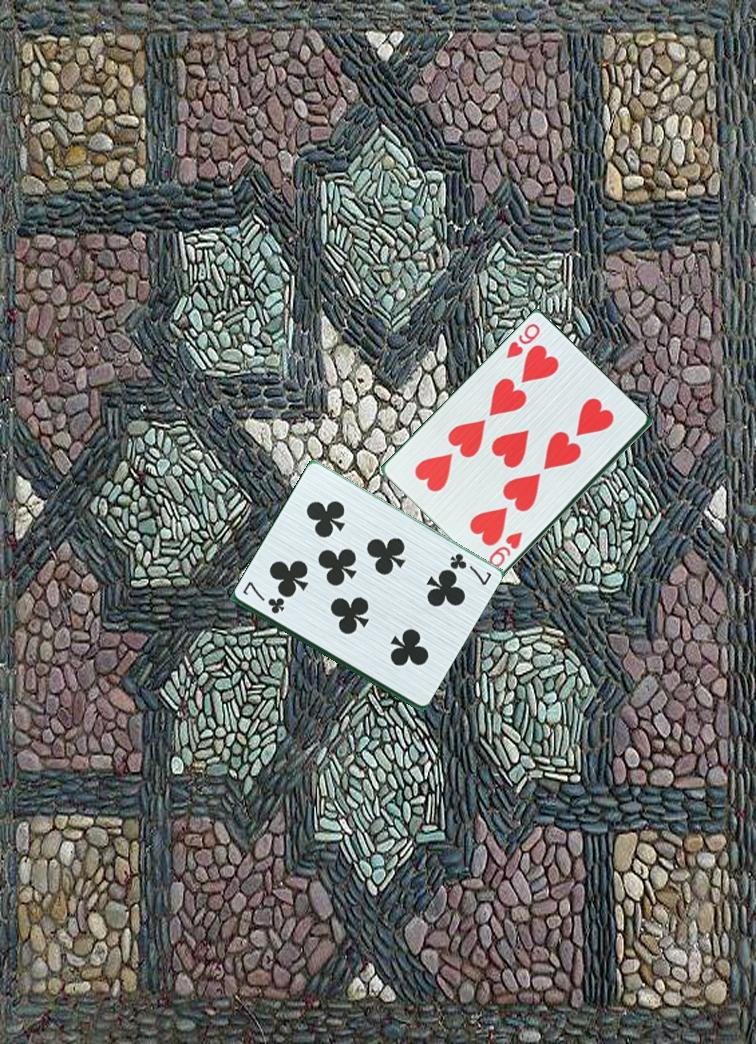7c: (441, 549, 495, 588), (239, 580, 288, 617)
9h: (502, 320, 543, 365), (485, 529, 526, 571)
